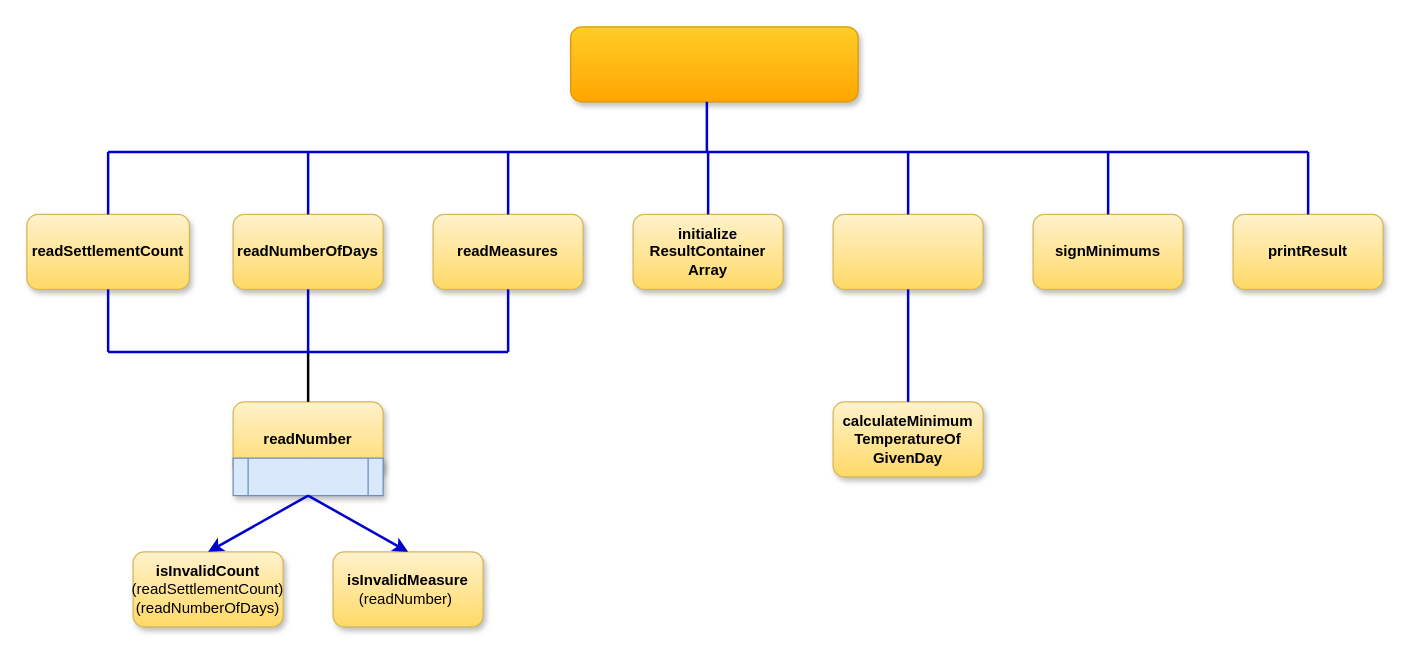
This 1413x658 diagram has some shape labels left out. The shapes that lost their labels are listed below. From the top down, each one's centre as x and y in pixels, then its label:
At (715,66): "Main".
At (909,253): "calculateMinimum TemperatureOnEach Days".
At (309,478): "functional pointer to validate".
